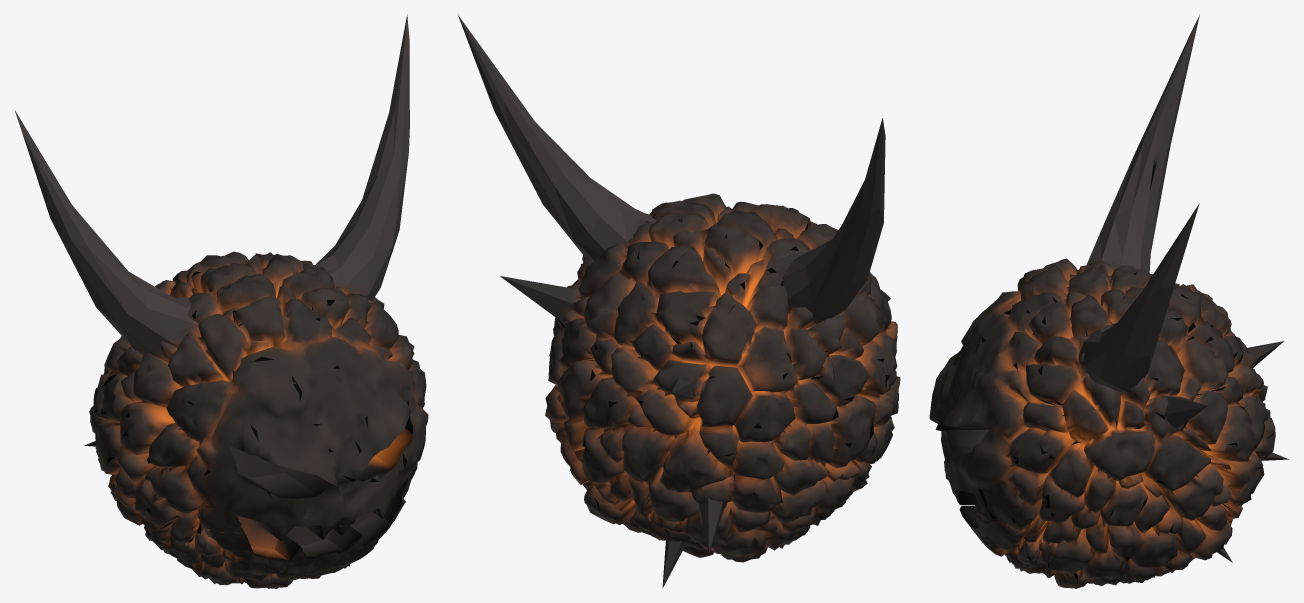
The model's file is Magma.fbx.
The picture shows the model from 3 angles, left to right: view 1: azimuth 30°, elevation 25°; view 2: azimuth 150°, elevation 25°; view 3: azimuth 270°, elevation 25°; orthographic projection. The views are drawn at different scales.
Parts seen in each view (by area): view 1: Body, Jaw; view 2: Body; view 3: Body, Jaw.
Boxes of the visible parts, x1,y1,x2,y2 form: Body: (15,14,428,588); Jaw: (185,491,407,588); Body: (457,14,900,587); Body: (929,14,1288,588); Jaw: (956,498,1058,581).
Size of the model in its own units: 1.35 by 1.57 by 1.09.
2 materials, 2 textured.
